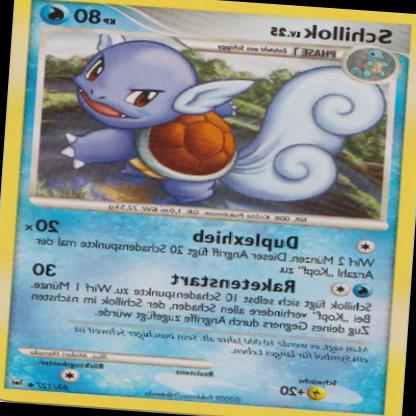Wartortle: (52, 43, 340, 212)
